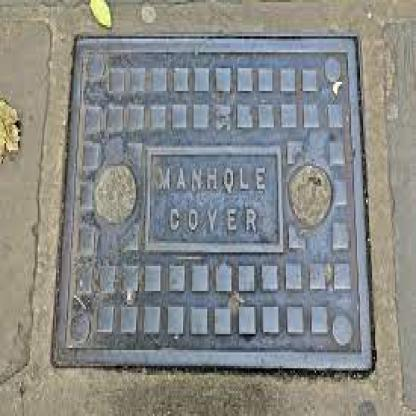closed manhole-not overflowing-: (46, 19, 373, 380)
